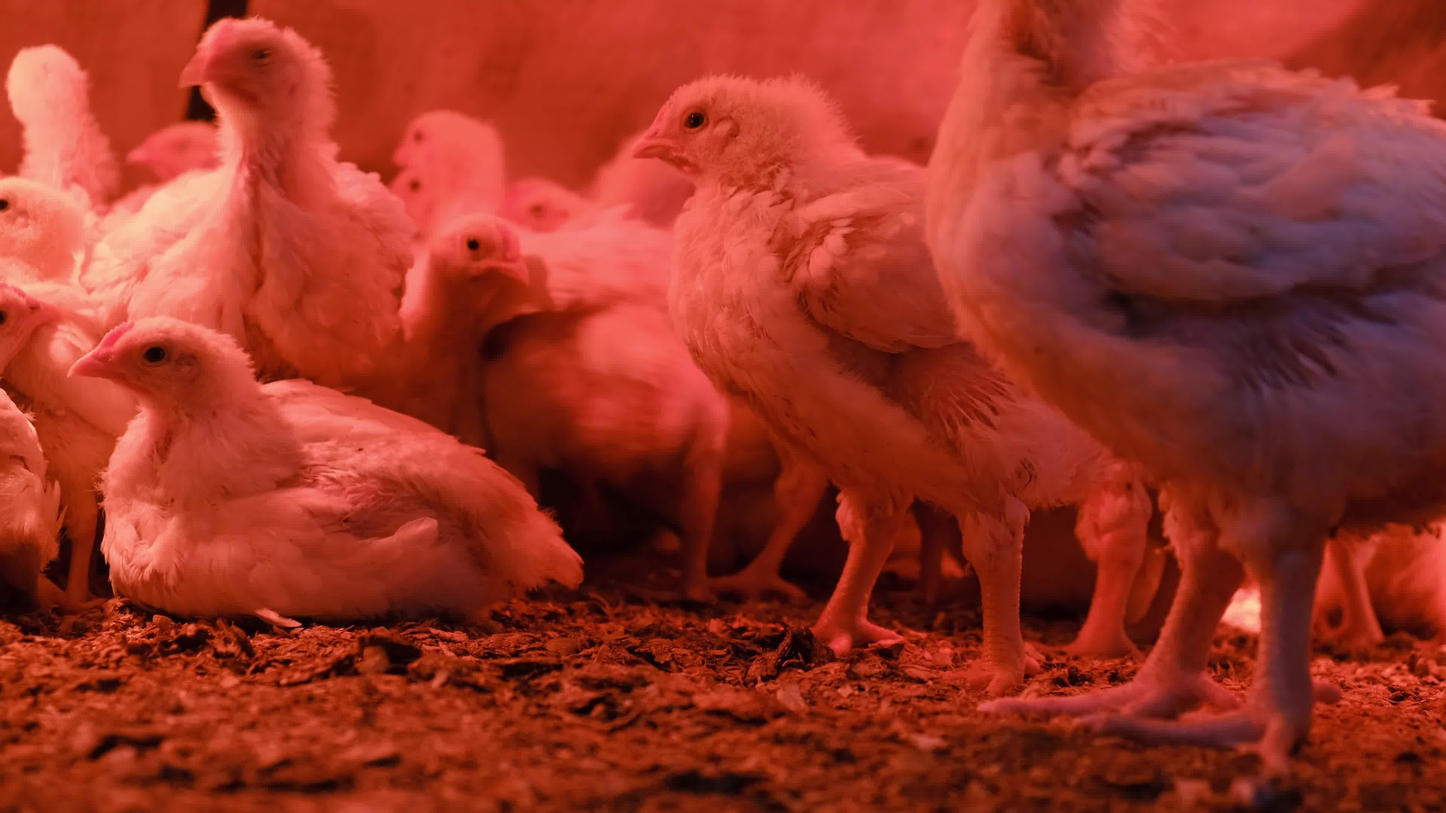AbNormal: (70, 317, 584, 625), (0, 279, 64, 645), (1308, 503, 1446, 655)
Normal: (923, 0, 1446, 775), (629, 74, 1097, 681), (81, 21, 439, 413), (489, 202, 742, 610), (0, 166, 150, 637), (356, 204, 531, 446), (373, 100, 530, 210), (13, 40, 111, 193), (125, 121, 222, 193), (381, 164, 495, 214), (507, 174, 584, 243)
